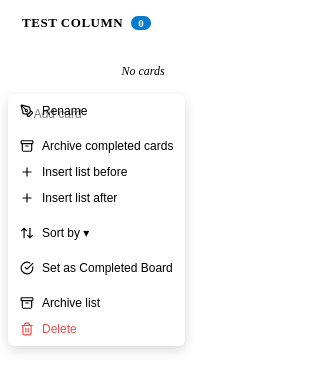
Test: Column › shows inline edit for insert before
Note: Click "Insert list before"
Click the button "Insert list before": (97, 172) [8,159,185,185]
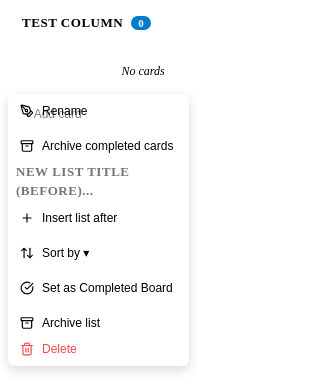
Check: the text box with placeholder "New list title (before)..." is shown, box [8,159,189,205]
